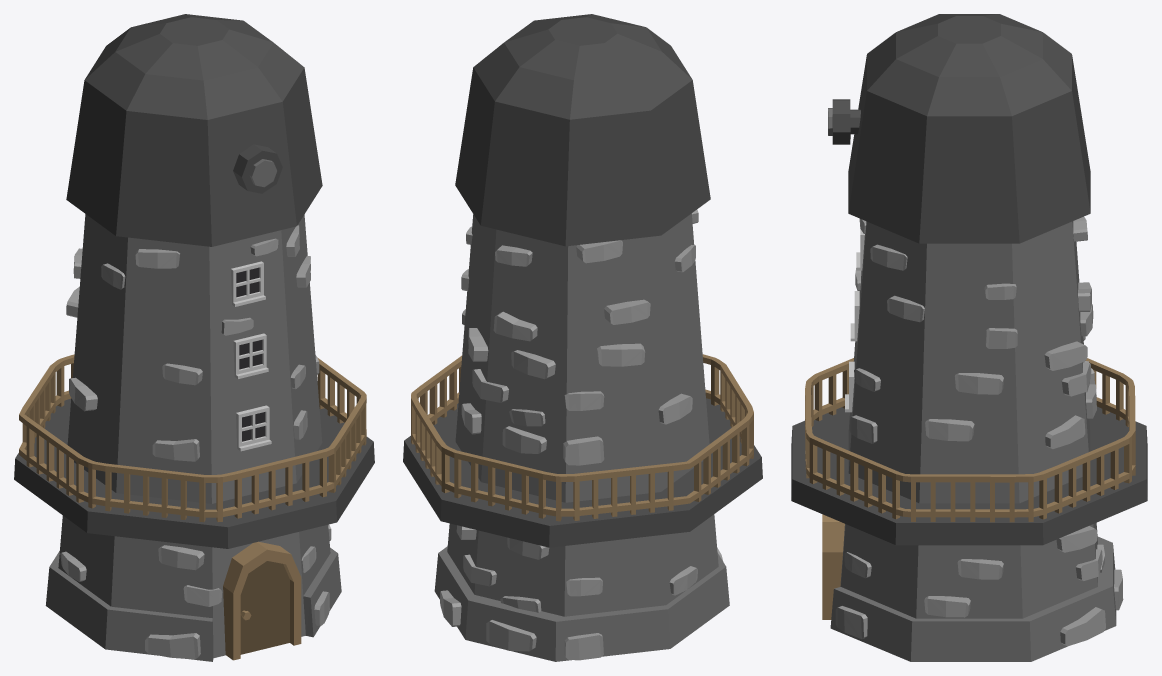
The model's file is bd_windmill_tower.glb.
The picture shows the model from 3 angles, left to right: view 1: azimuth 30°, elevation 25°; view 2: azimuth 150°, elevation 25°; view 3: azimuth 270°, elevation 25°; orthographic projection.
Parts seen in each view (by area): view 1: TowerWindmill_Cylinder.008; view 2: TowerWindmill_Cylinder.008; view 3: TowerWindmill_Cylinder.008.
Part boxes in pixels (box(x1,y1,x2,y2)): TowerWindmill_Cylinder.008: box(14, 14, 374, 661); TowerWindmill_Cylinder.008: box(403, 14, 762, 661); TowerWindmill_Cylinder.008: box(791, 14, 1147, 661).
Bounding box in the file's own units: 4.7 × 8.87 × 4.99.
